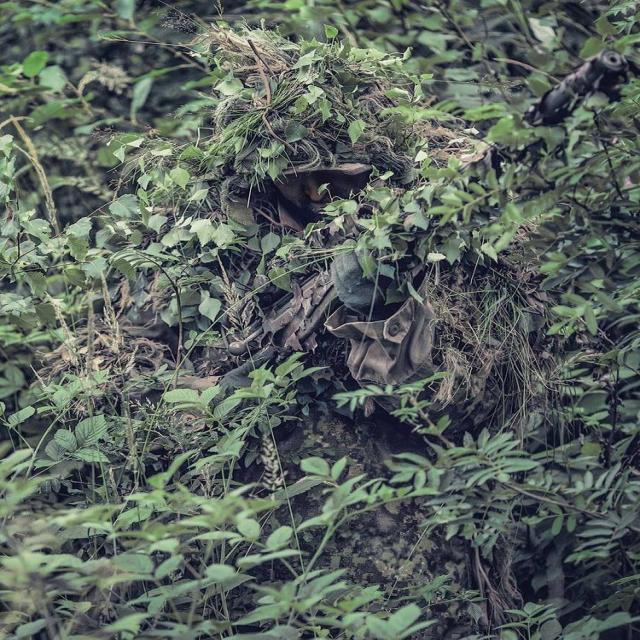Camouflage: (116, 26, 619, 501)
